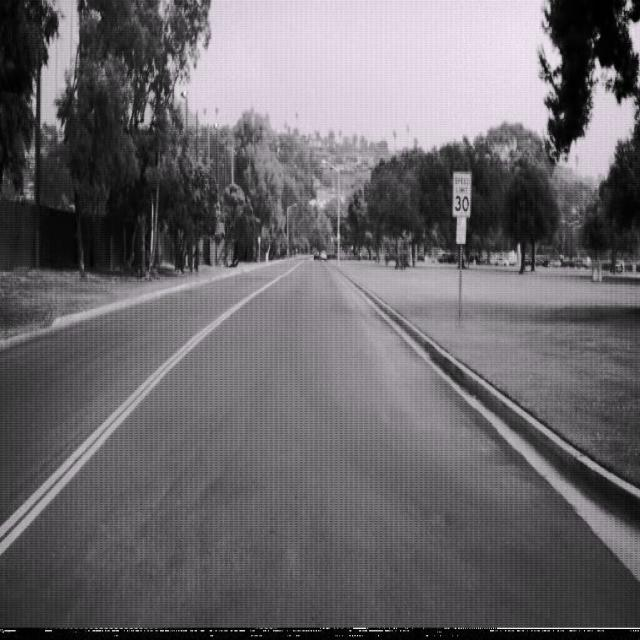speedLimit30: (451, 169, 472, 218)
